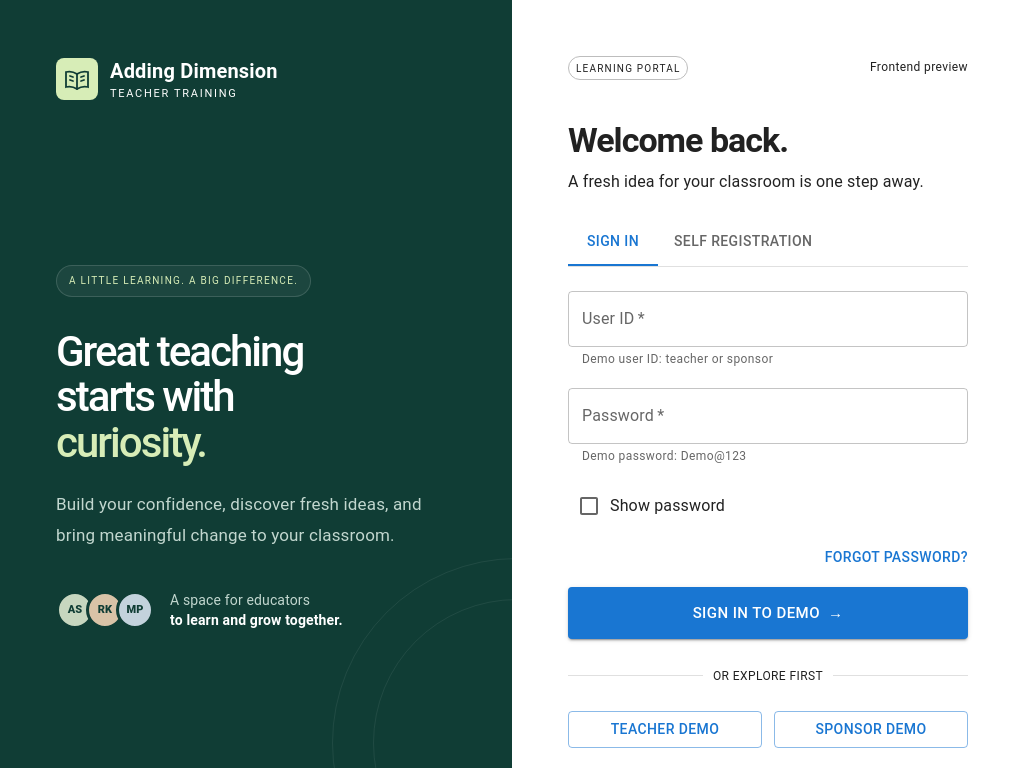
Test: password reset preview › rejects an expired code and allows a newly generated code
Click the button "Forgot password?" at (896, 557), box [825,545,968,569]
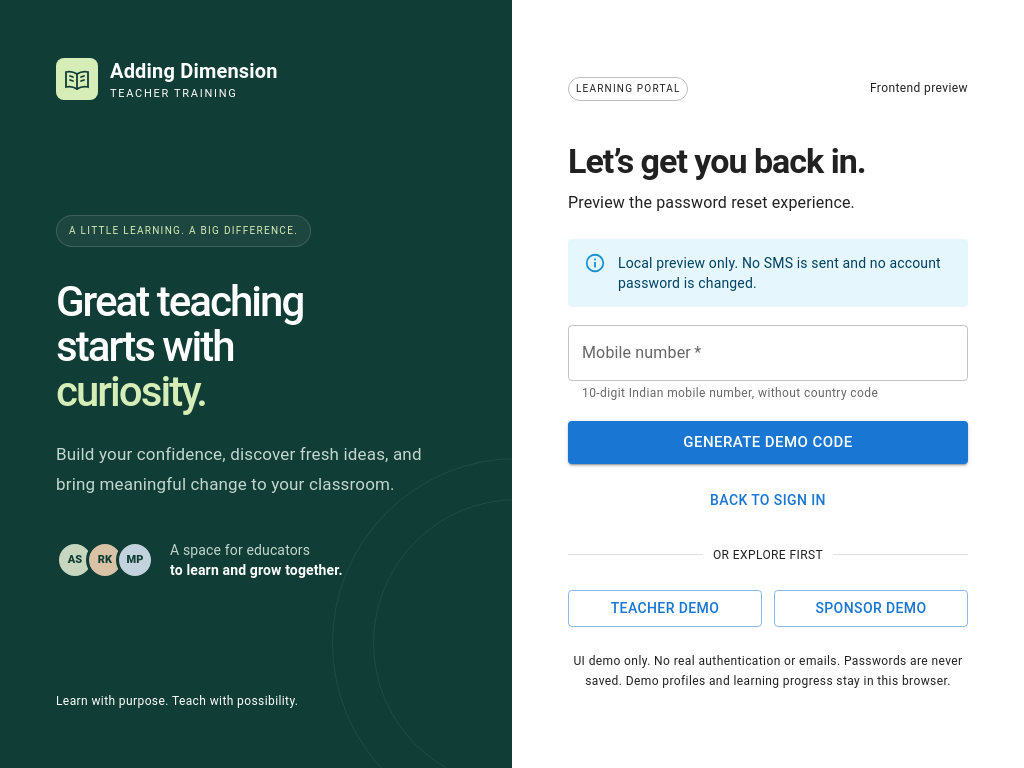
Type "9876543210" into the field labelled "Mobile number *" at (768, 352), box [568,324,968,380]
Click the button "Generate demo code" at (768, 443), box [568,421,968,464]
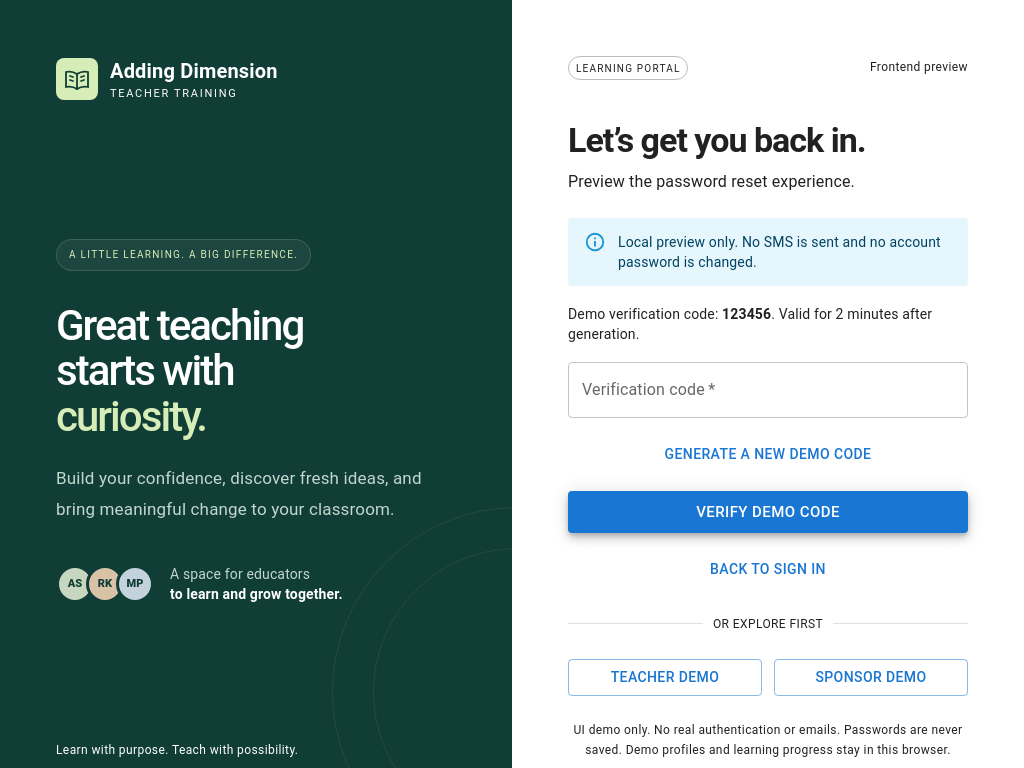
Type "123456" into the field labelled "Verification code *" at (768, 390), box [568,362,968,418]
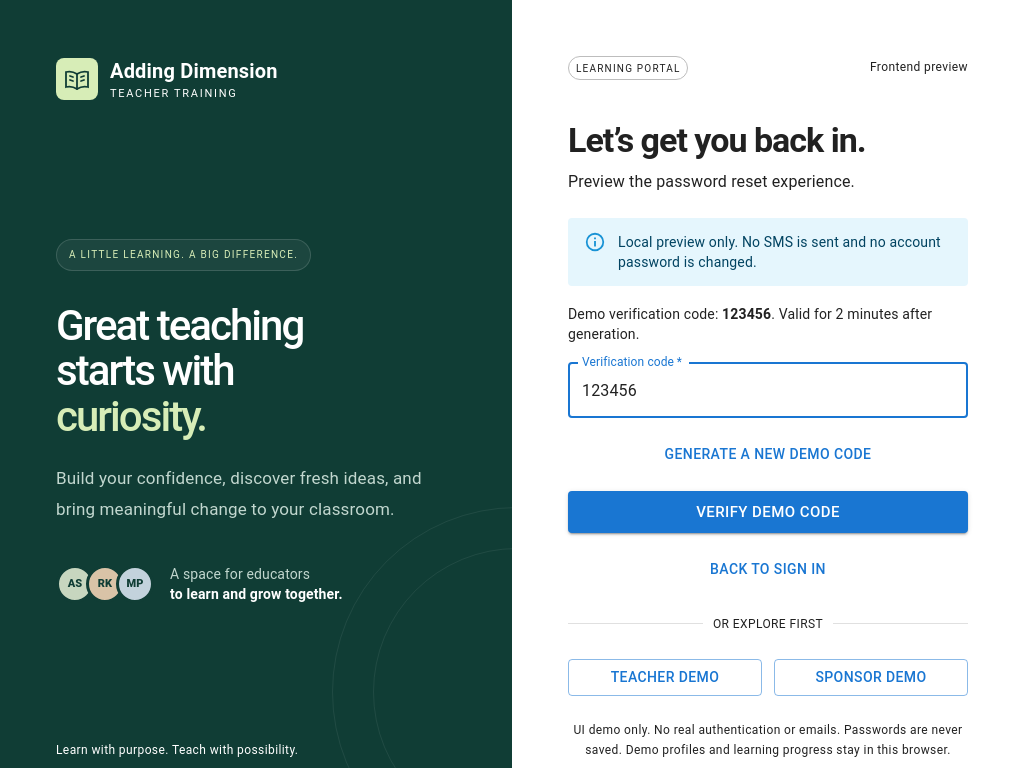
Click the button "Verify demo code" at (768, 512), box [568,490,968,533]
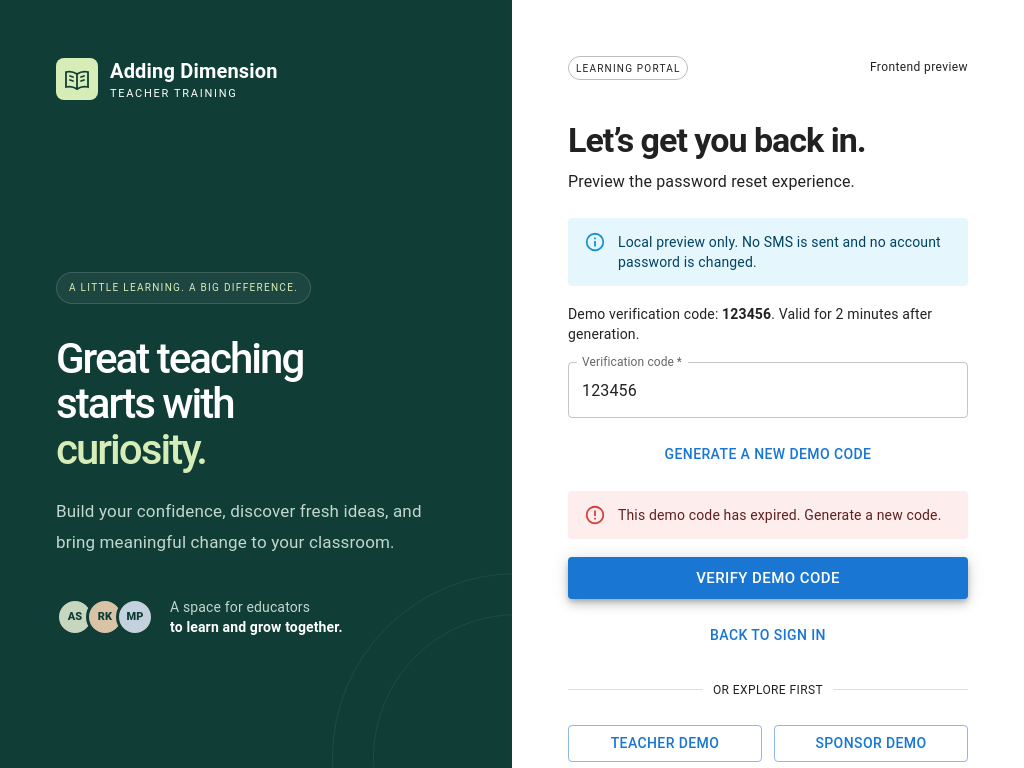
Check: the text "This demo code has expired. Generate a new code." is shown, box [618,506,942,522]
Click the button "Generate a new demo code" at (768, 454), box [568,436,968,472]
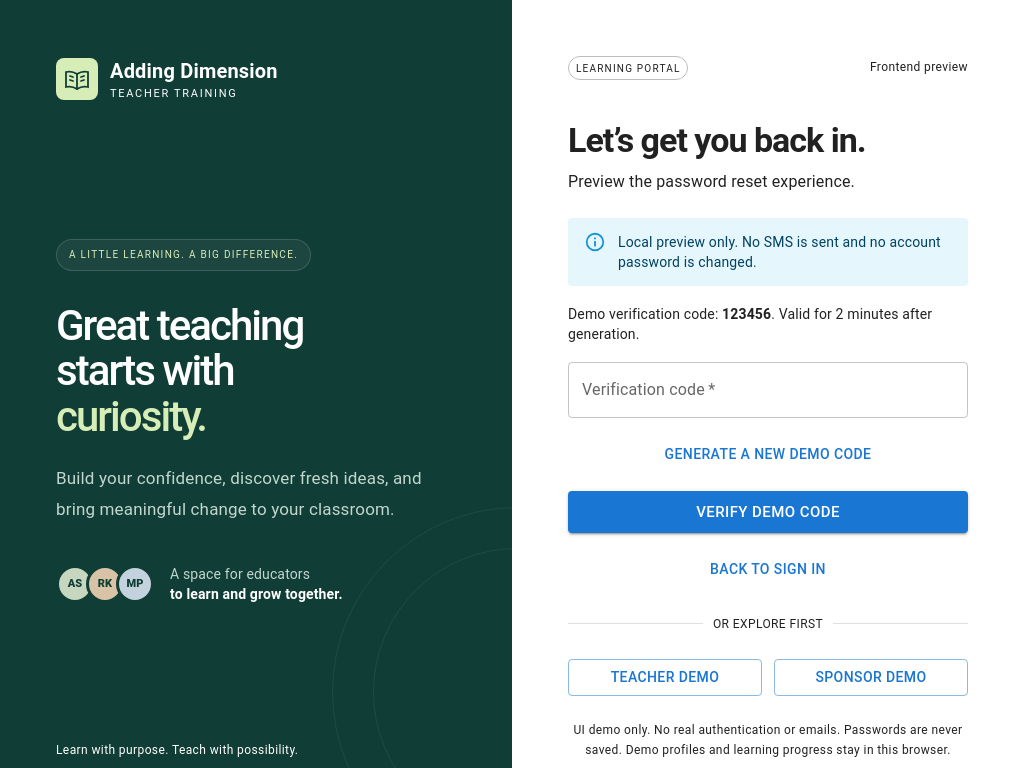
Type "123456" into the field labelled "Verification code *" at (768, 390), box [568,362,968,418]
Click the button "Verify demo code" at (768, 512), box [568,490,968,533]
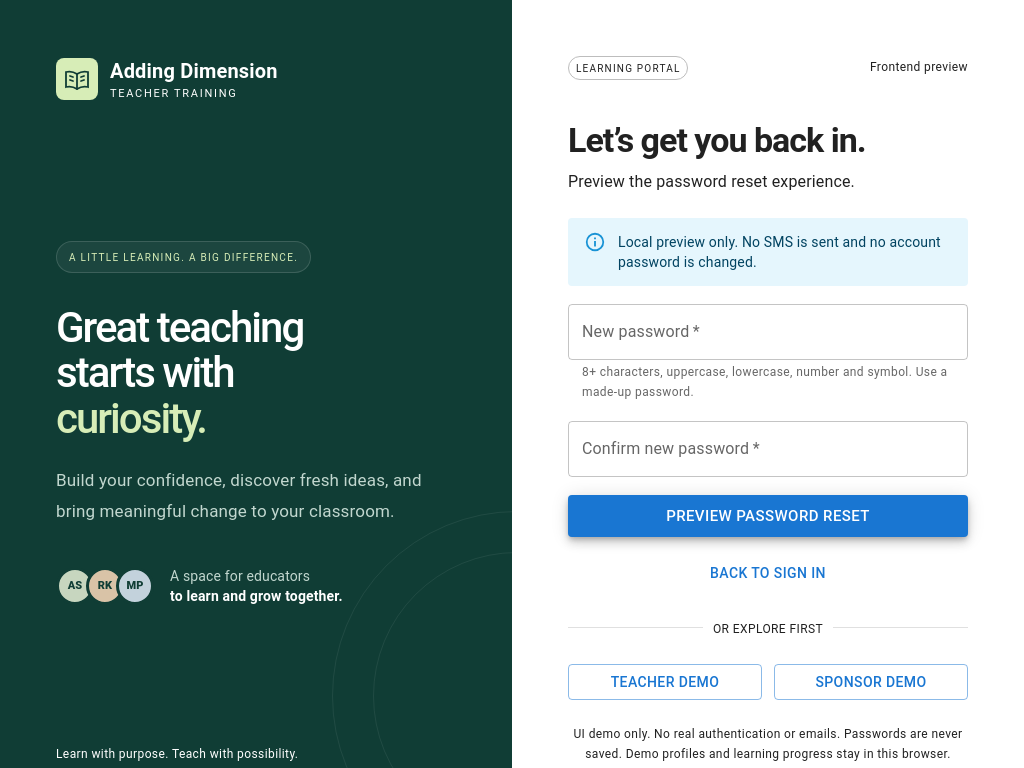
Check: the password field labelled "New password *" is shown, box [568,304,968,360]
